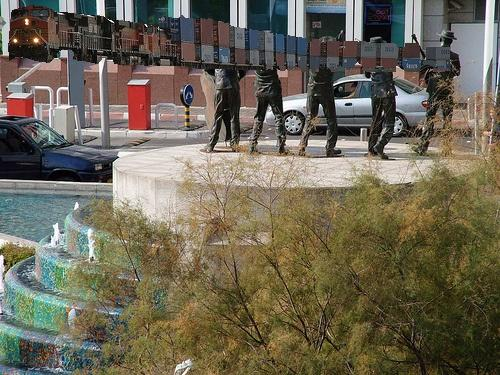tampered: (9, 6, 450, 72)
